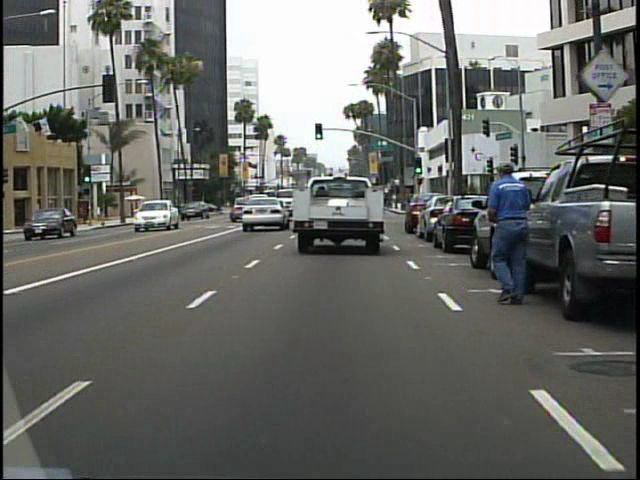person: (477, 155, 539, 309)
